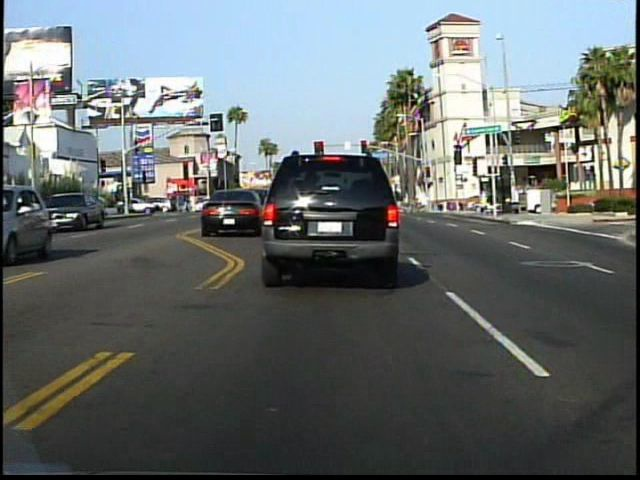person: (176, 184, 194, 219)
